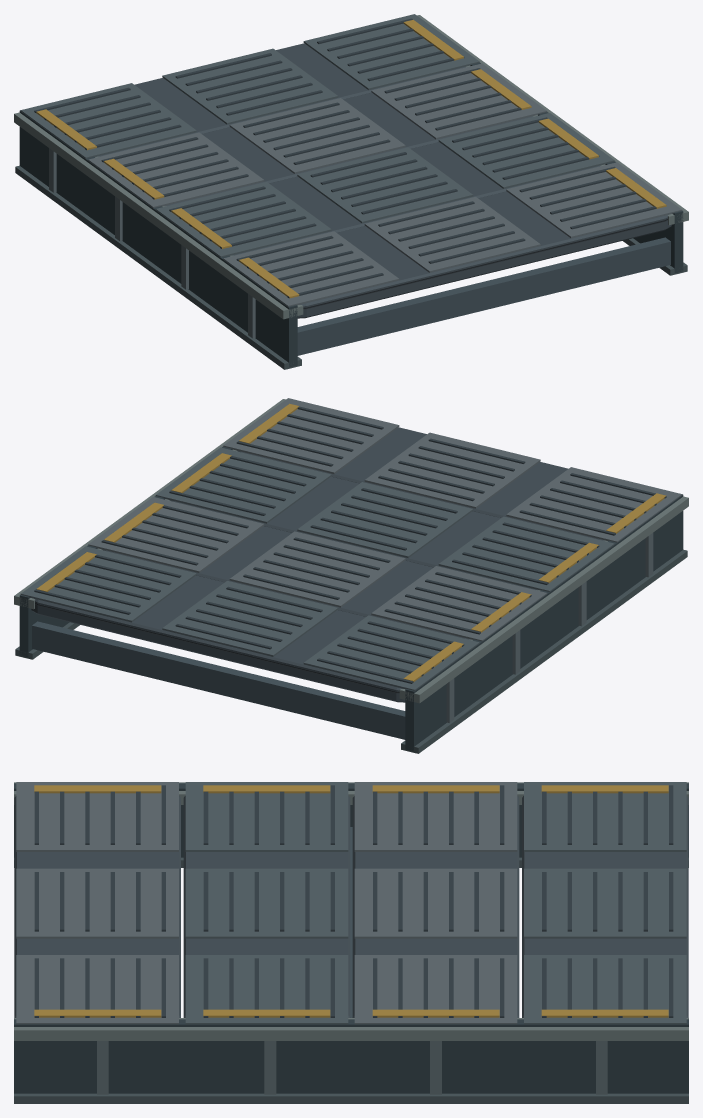
Rendered from HG-01_gallery_deck.glb.
3 views of the same model, one above another, from view 1: azimuth 30°, elevation 25°; view 2: azimuth 150°, elevation 25°; view 3: azimuth 270°, elevation 25° (orthographic). The views are drawn at different scales.
Visible parts, largest first — view 1: HG-01_gallery_deck; view 2: HG-01_gallery_deck; view 3: HG-01_gallery_deck.
Boxes of the visible parts, x1,y1,x2,y2 form: HG-01_gallery_deck: (14,14,688,369); HG-01_gallery_deck: (14,398,688,753); HG-01_gallery_deck: (14,782,688,1103).
Size of the model in its own units: 3.47 by 0.522 by 3.99.
